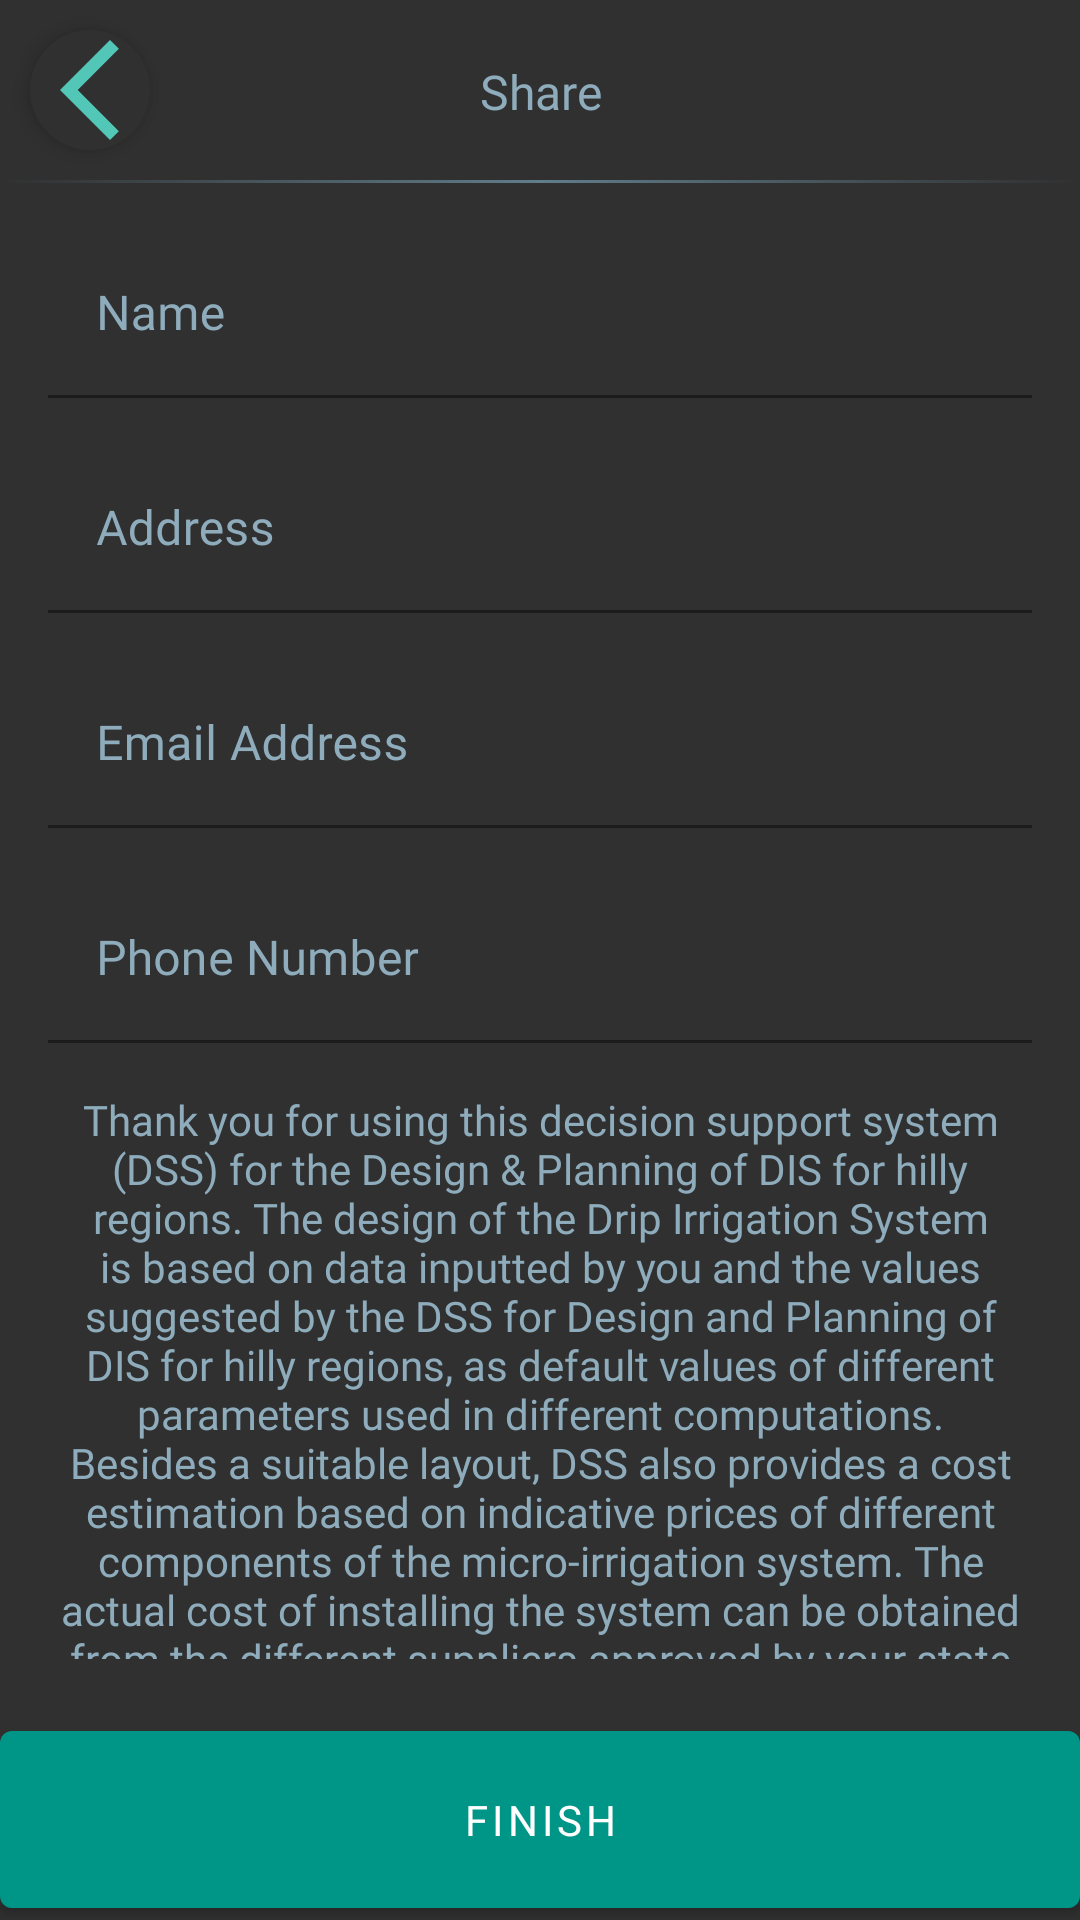

Icons on this 1080x1920 Android screen, each with the point to tap as (x,y):
Back: (89,90)
